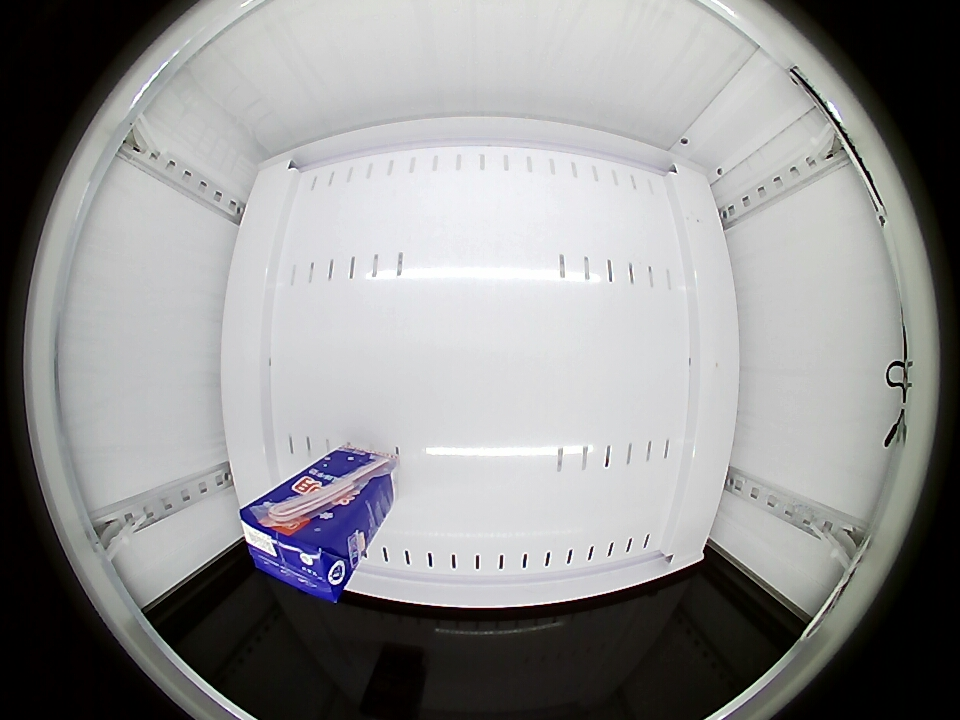bingqilinniunai: (239, 494, 357, 601)
